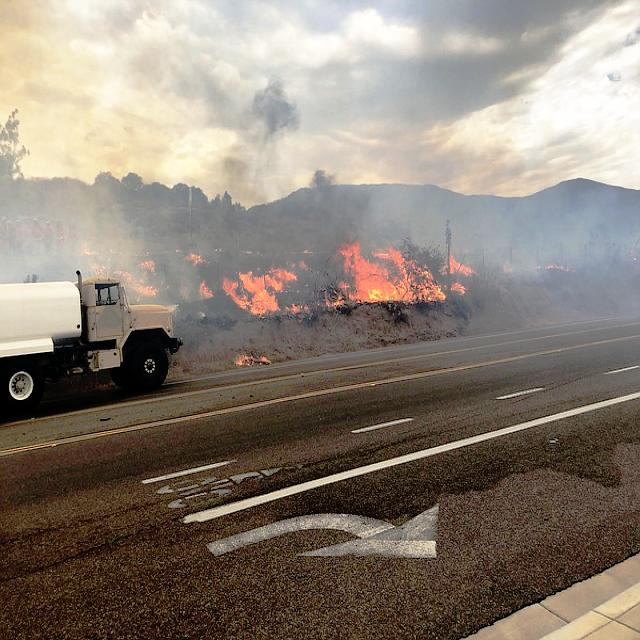api: (188, 228, 486, 334)
asap: (182, 1, 536, 259)
